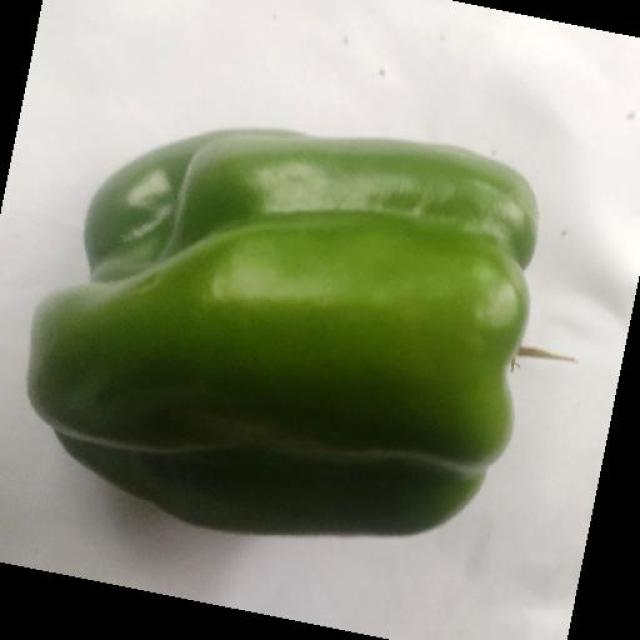Stale_Capsicum: (68, 132, 494, 539)
